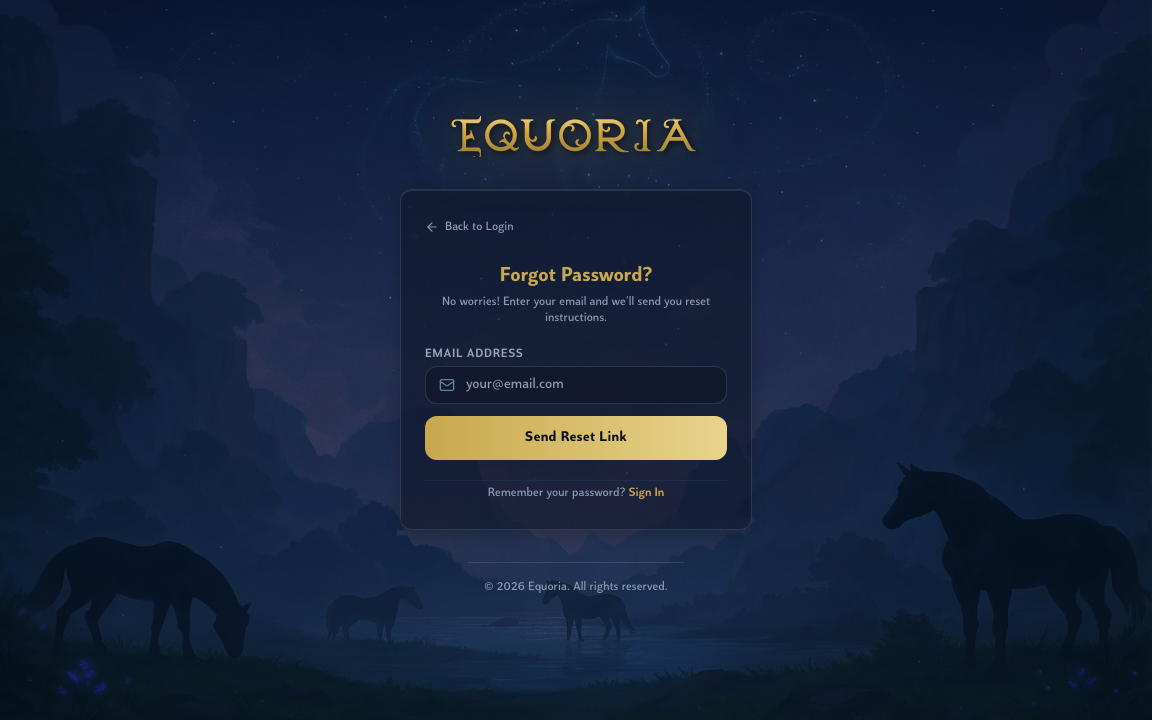
Test: ForgotPasswordPage — refused request (Equoria-mr1kq) › shows mapped copy for a server fault
This screenshot has width=1152, height=720.
Type "someone@example.com" into the field with placeholder "your@email.com" at (576, 385), box [425, 366, 727, 404]
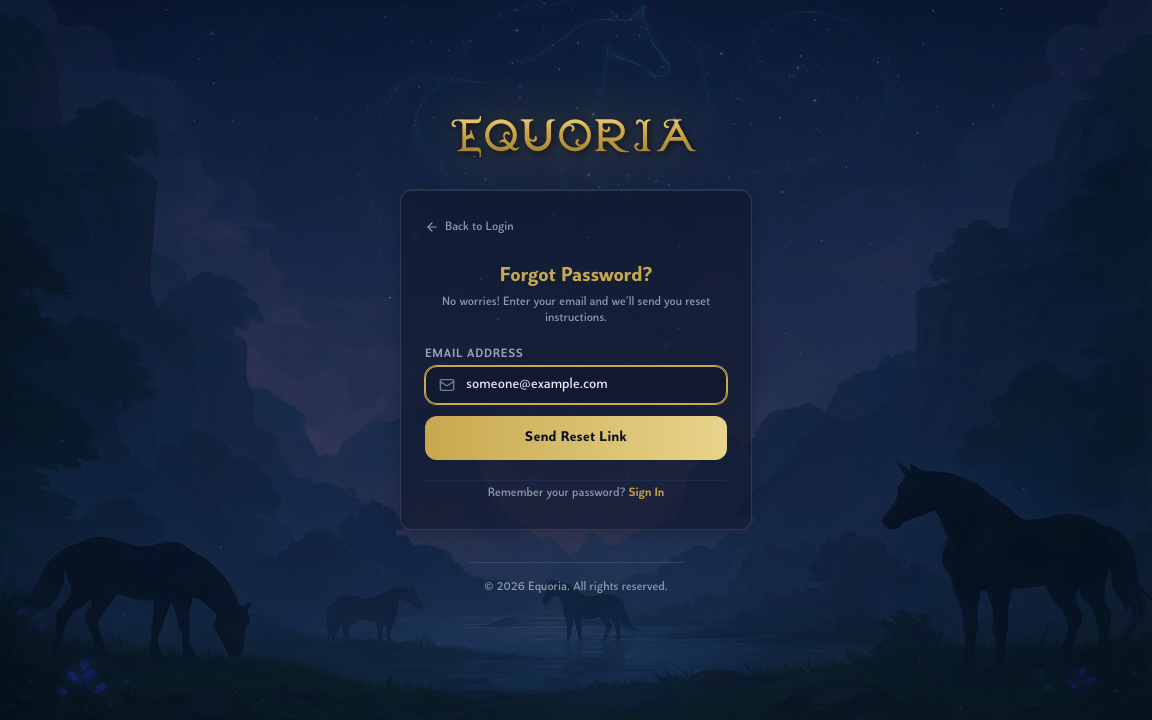
Click the button "Send Reset Link" at (576, 438), box [425, 416, 727, 460]
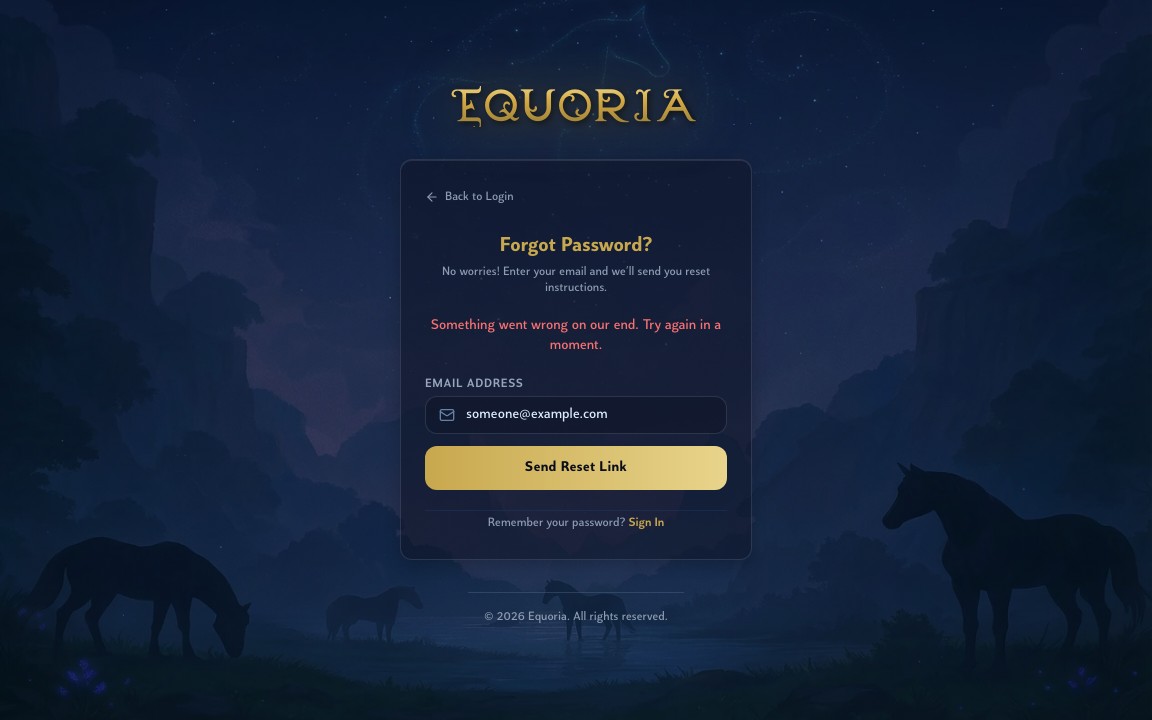
Expected: the message reads "Something went wrong on our end. Try again in a moment.", [431, 318, 721, 353]
